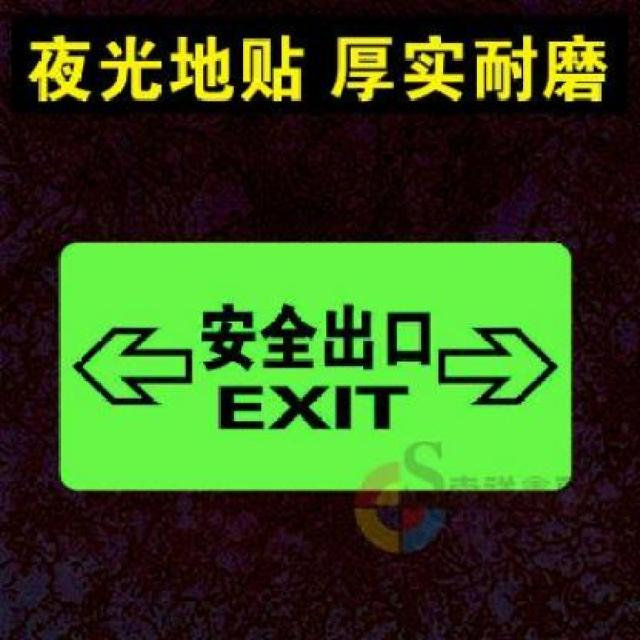exit_sign: (45, 226, 604, 504)
